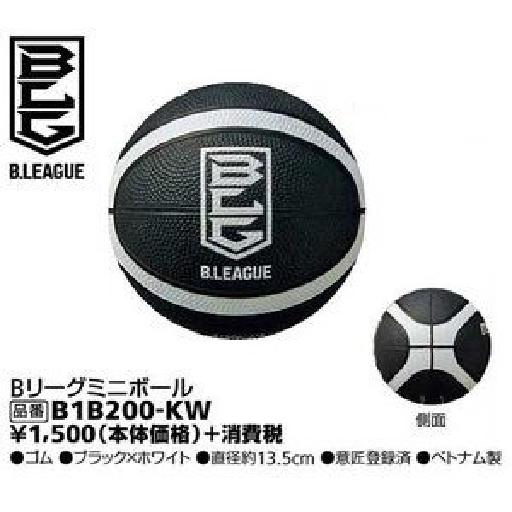ball: (107, 80, 366, 340)
